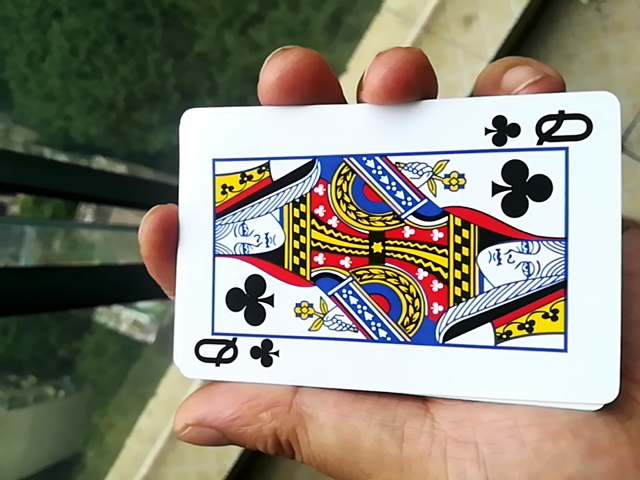mh q: (157, 97, 618, 411)
